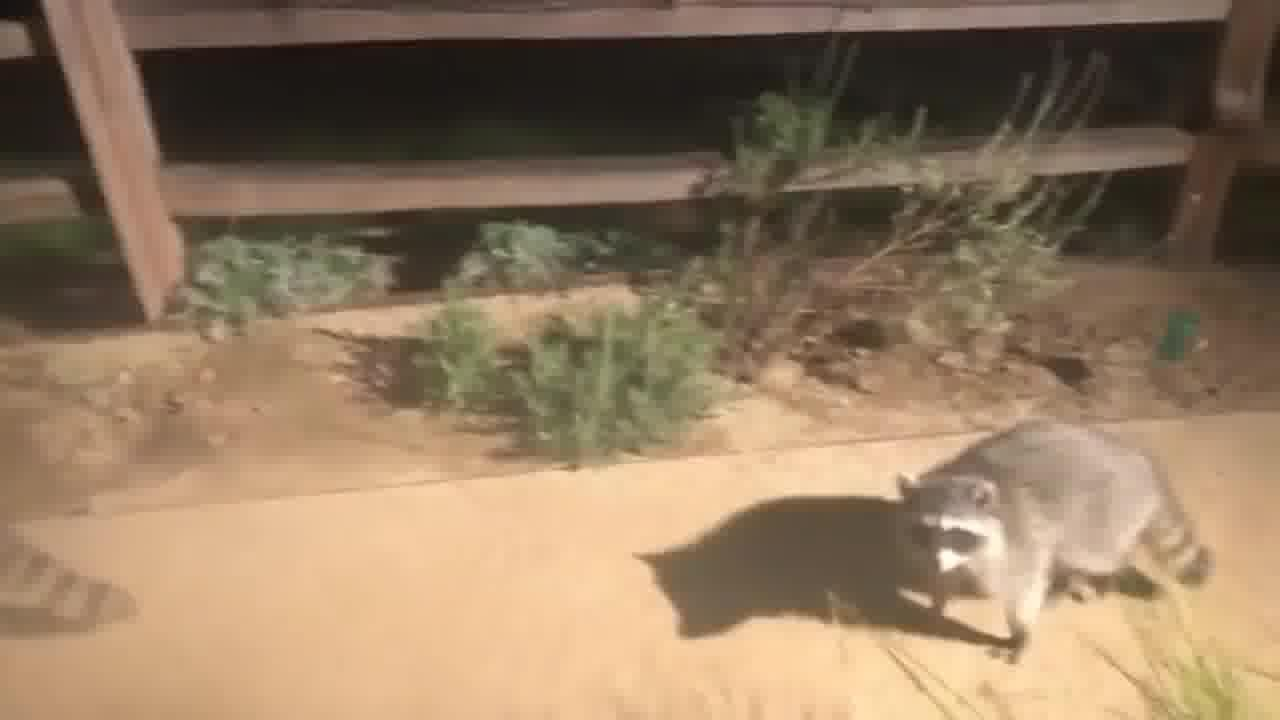raccoon: (892, 412, 1226, 671), (0, 513, 160, 639)
